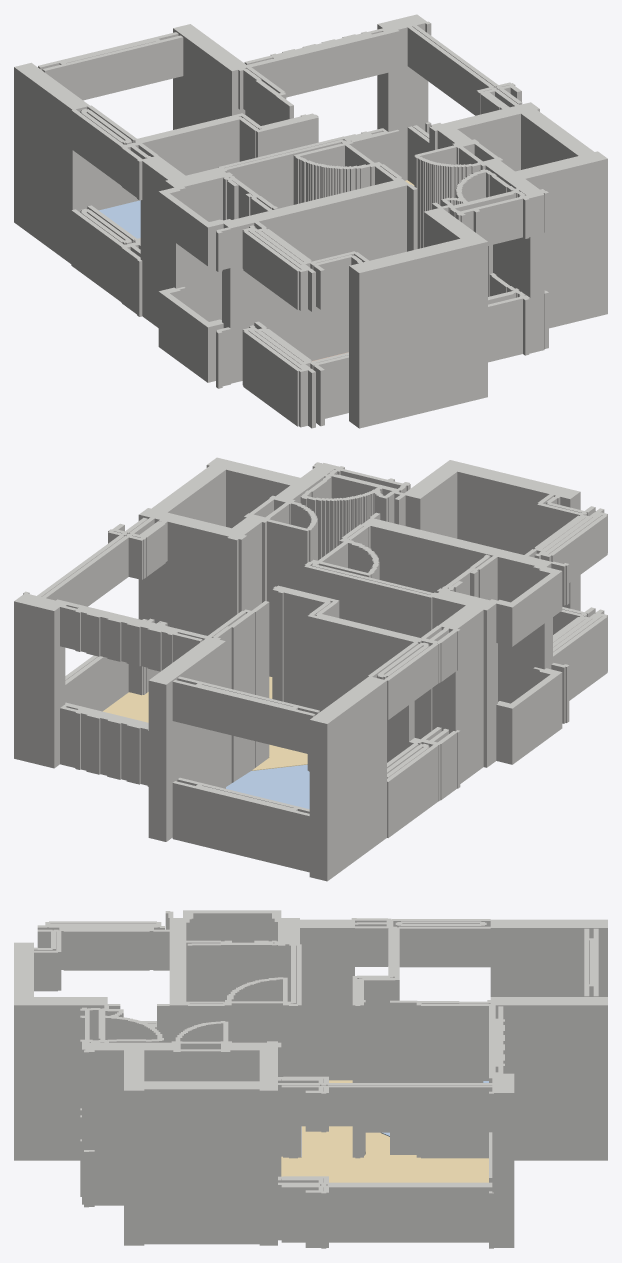
3 views of the same model, one above another, from view 1: azimuth 30°, elevation 25°; view 2: azimuth 150°, elevation 25°; view 3: azimuth 270°, elevation 25° (orthographic).
Visible parts, largest first — view 1: walls, room:bedroom:5; view 2: walls, room:bedroom:5, room:living:0; view 3: walls, room:living:0.
Boxes of the visible parts, x1,y1,x2,y2 form: walls: [14, 14, 607, 428]; room:bedroom:5: [99, 200, 140, 238]; walls: [14, 457, 607, 881]; room:bedroom:5: [226, 764, 309, 809]; room:living:0: [103, 676, 307, 770]; walls: [14, 910, 607, 1248]; room:living:0: [281, 1080, 488, 1182].
Bounding box in the file's own units: 7.1 × 2.8 × 9.72.
